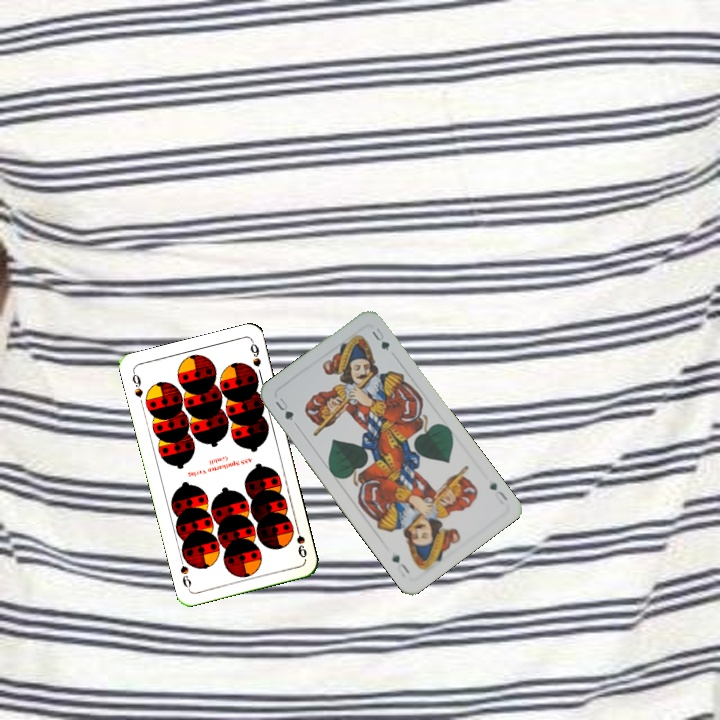GU: (271, 393, 297, 424), (485, 478, 510, 503)
S9: (291, 521, 309, 560), (128, 368, 145, 400)
